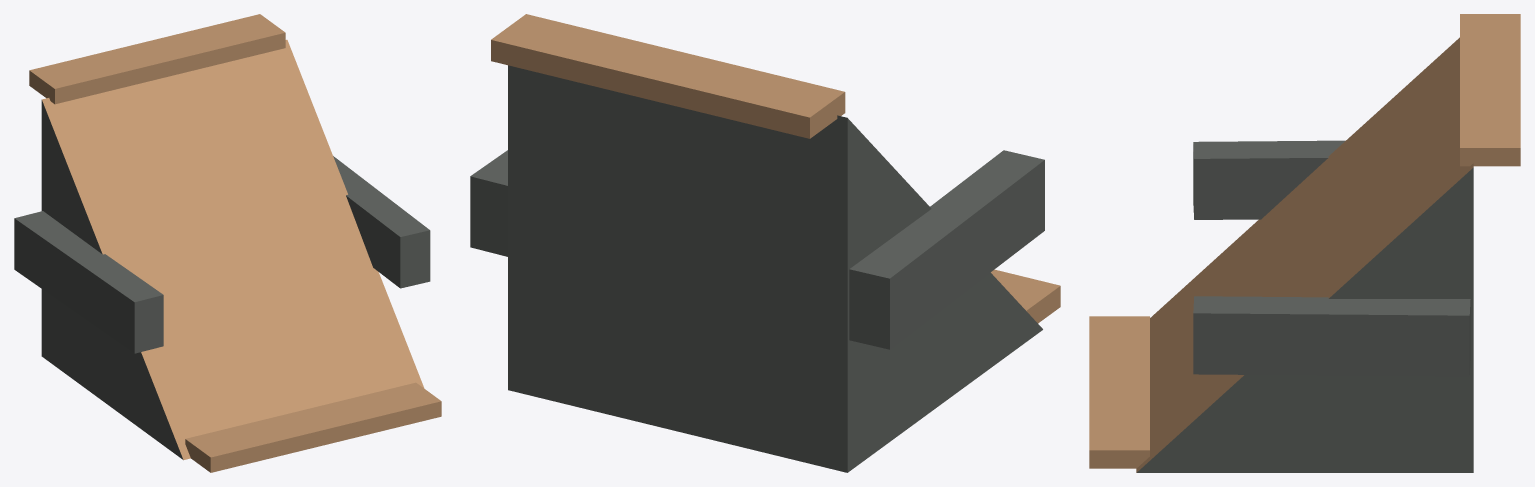
The model's file is ramp_a.glb.
3 views of the same model, side by side, from view 1: azimuth 30°, elevation 25°; view 2: azimuth 150°, elevation 25°; view 3: azimuth 270°, elevation 25° (orthographic). The views are drawn at different scales.
Visible parts, largest first — view 1: ramp_main_slope_low_to_high, ramp_left_rock_lip, ramp_top_landing_dirt, ramp_bottom_landing_dirt, ramp_right_rock_lip; view 2: ramp_main_slope_low_to_high, ramp_left_rock_lip, ramp_top_landing_dirt, ramp_right_rock_lip, ramp_bottom_landing_dirt; view 3: ramp_main_slope_low_to_high, ramp_right_rock_lip, ramp_top_landing_dirt, ramp_bottom_landing_dirt, ramp_left_rock_lip.
Part boxes in pixels (<box>): ramp_main_slope_low_to_high: <box>41,39,423,460</box>; ramp_left_rock_lip: <box>14,211,163,353</box>; ramp_top_landing_dirt: <box>29,14,285,104</box>; ramp_bottom_landing_dirt: <box>185,382,441,472</box>; ramp_right_rock_lip: <box>333,156,430,288</box>; ramp_main_slope_low_to_high: <box>508,65,1042,472</box>; ramp_left_rock_lip: <box>849,150,1044,349</box>; ramp_top_landing_dirt: <box>491,14,845,138</box>; ramp_right_rock_lip: <box>470,150,507,256</box>; ramp_bottom_landing_dirt: <box>991,269,1060,323</box>; ramp_main_slope_low_to_high: <box>1136,37,1473,472</box>; ramp_right_rock_lip: <box>1193,296,1470,376</box>; ramp_top_landing_dirt: <box>1460,14,1520,166</box>; ramp_bottom_landing_dirt: <box>1089,316,1149,468</box>; ramp_left_rock_lip: <box>1193,140,1345,219</box>.
Bounding box in the file's own units: 1.24 × 1.05 × 1.28.
